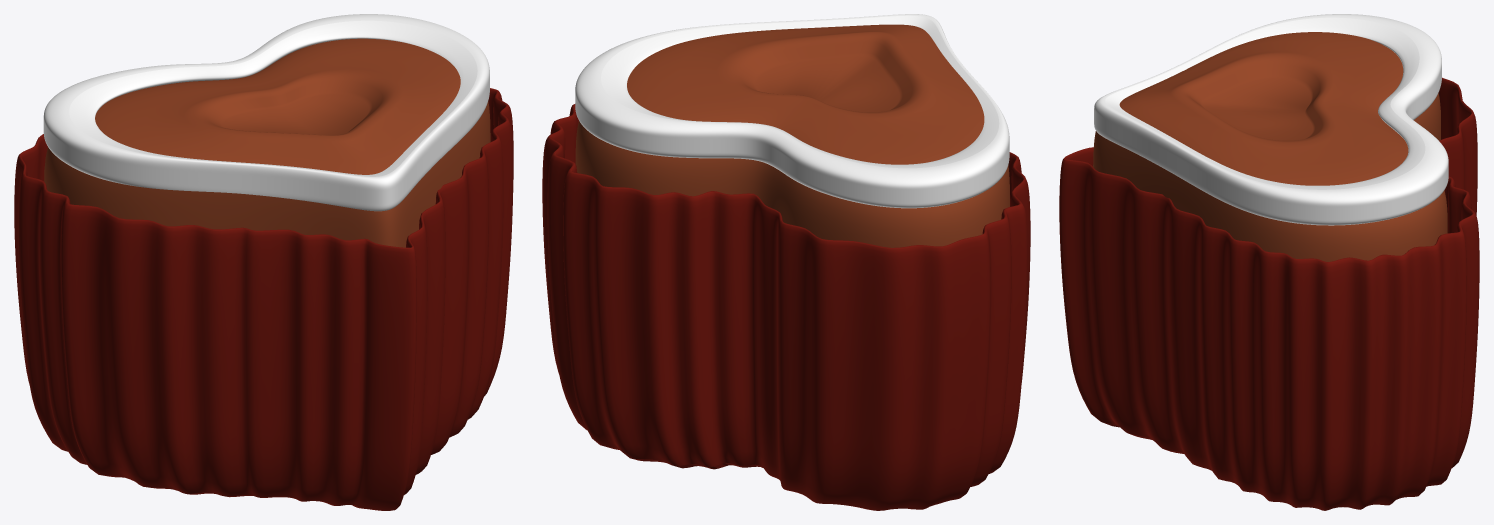
File: Cupcake.fbx
The picture shows the model from 3 angles, left to right: view 1: azimuth 30°, elevation 25°; view 2: azimuth 150°, elevation 25°; view 3: azimuth 270°, elevation 25°; orthographic projection. The views are drawn at different scales.
Parts seen in each view (by area): view 1: Line032, Cylinder063, Cylinder064; view 2: Line032, Cylinder063, Cylinder064; view 3: Line032, Cylinder063, Cylinder064.
Part boxes in pixels (box(x1,y1,x2,y2)): Line032: box(14, 88, 513, 510); Cylinder063: box(44, 38, 490, 247); Cylinder064: box(43, 14, 489, 211); Line032: box(542, 104, 1030, 510); Cylinder063: box(575, 24, 1009, 247); Cylinder064: box(575, 14, 1009, 208); Line032: box(1059, 77, 1479, 510); Cylinder063: box(1093, 32, 1447, 261); Cylinder064: box(1094, 14, 1448, 225).
Bounding box in the file's own units: 8.37 × 6.22 × 7.12.
